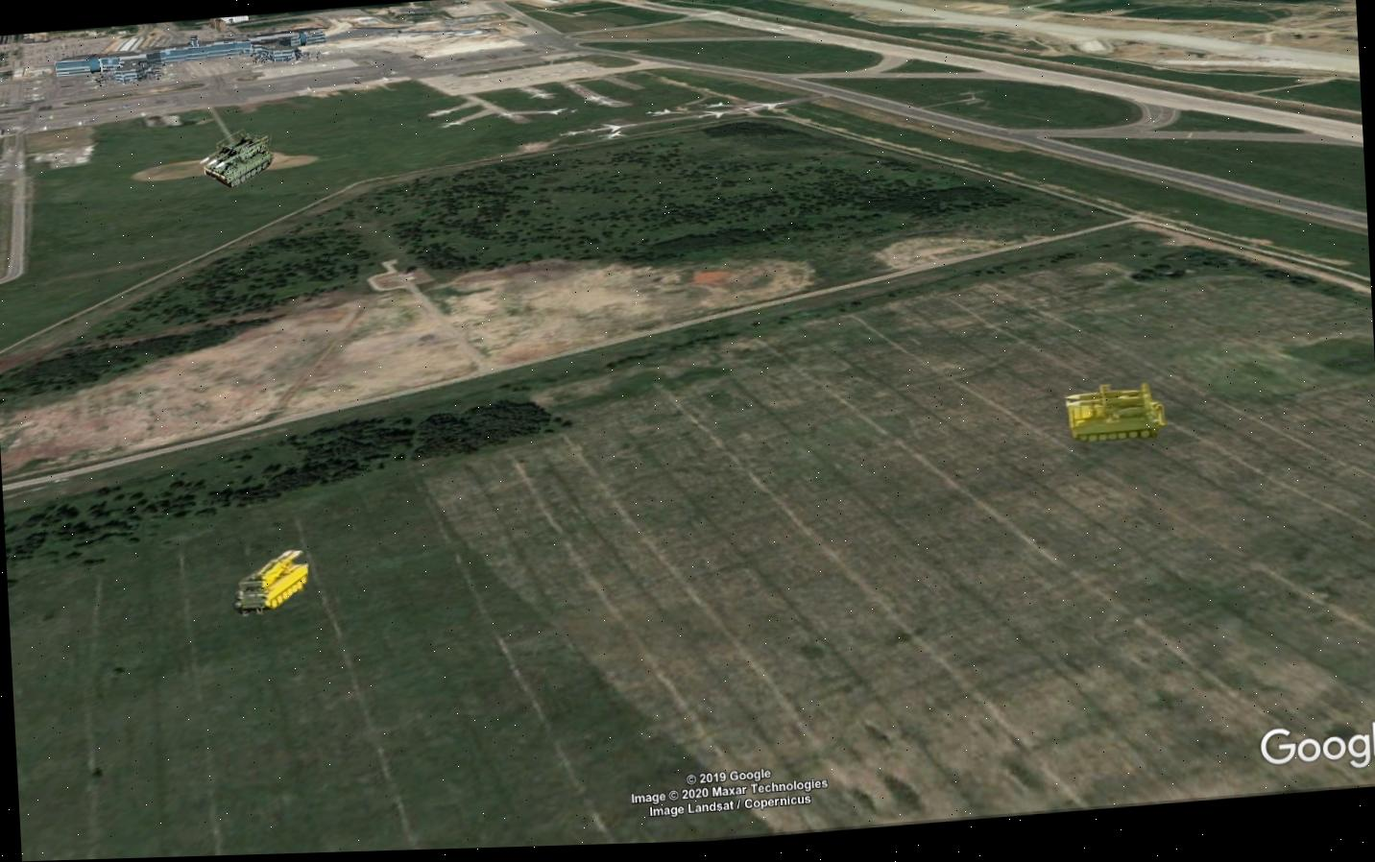armored_car: (1061, 378, 1170, 449), (231, 542, 313, 620)
